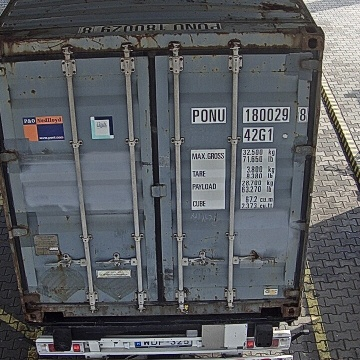serial_id: (192, 108, 307, 122)
